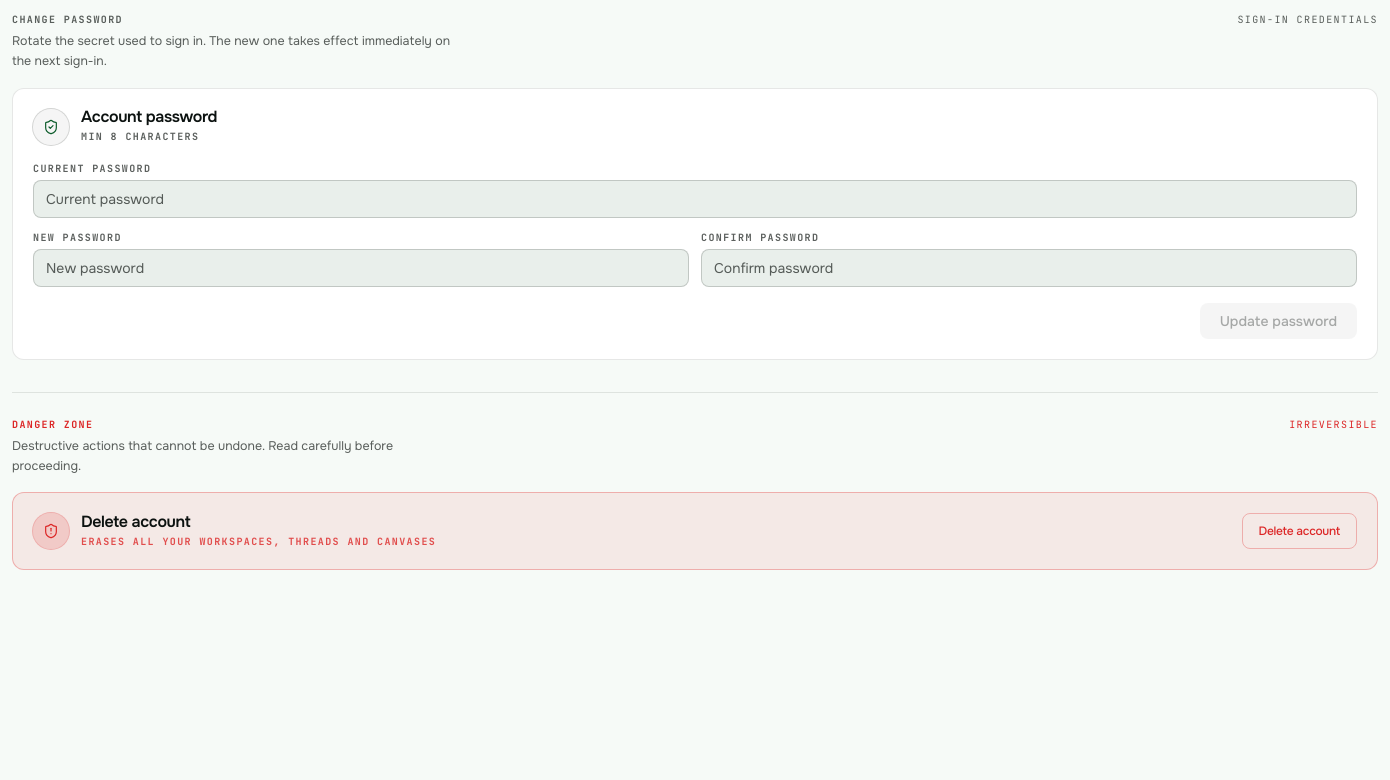
Test: SecuritySection › GIVEN a password form with the current password typed › WHEN a too short new password is submitted › THEN the length rule is explained without a request
The width and height of the screenshot is (1390, 780).
Type "old-secret-1" into the password field labelled "Current password". click: x=695, y=199
box: [33,180,1357,218]
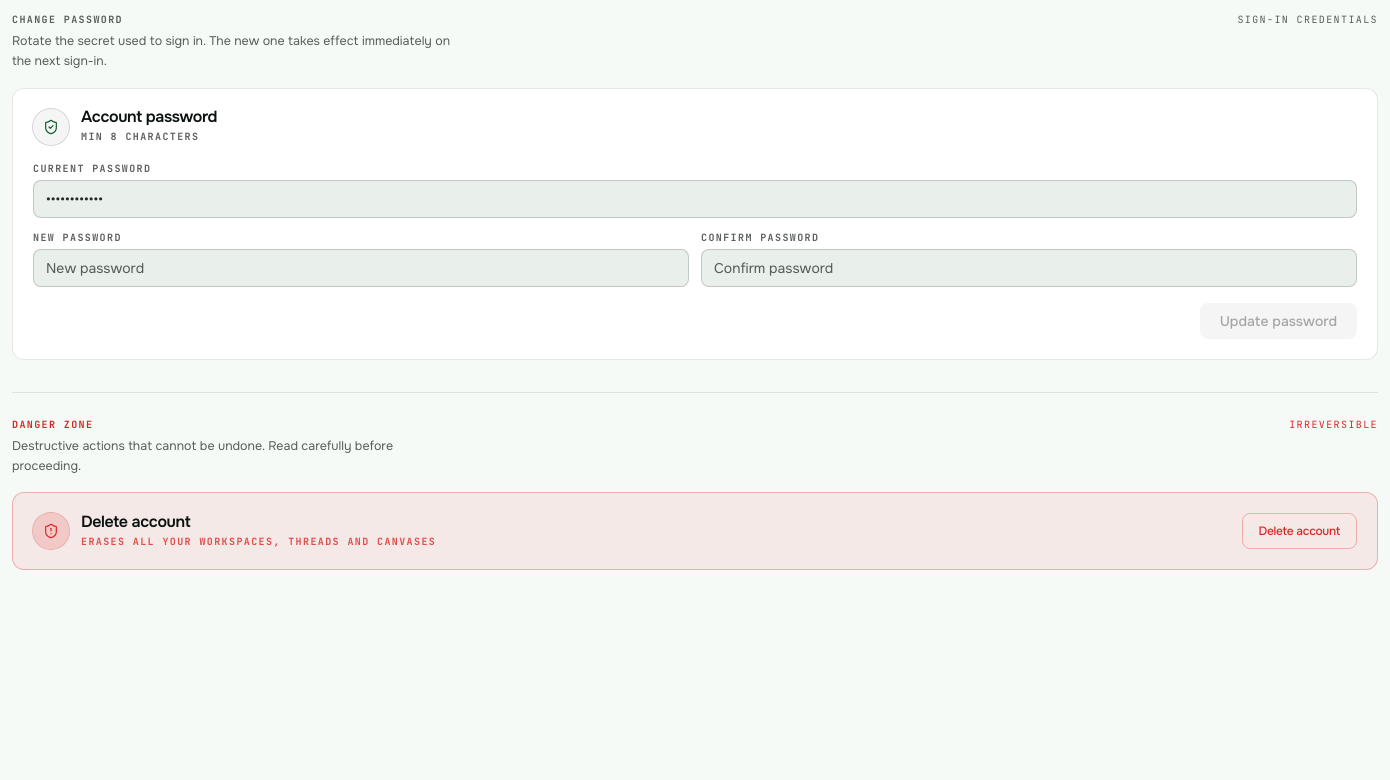
Type "short" into the password field labelled "New password". click: x=361, y=268
box: [33,249,689,287]
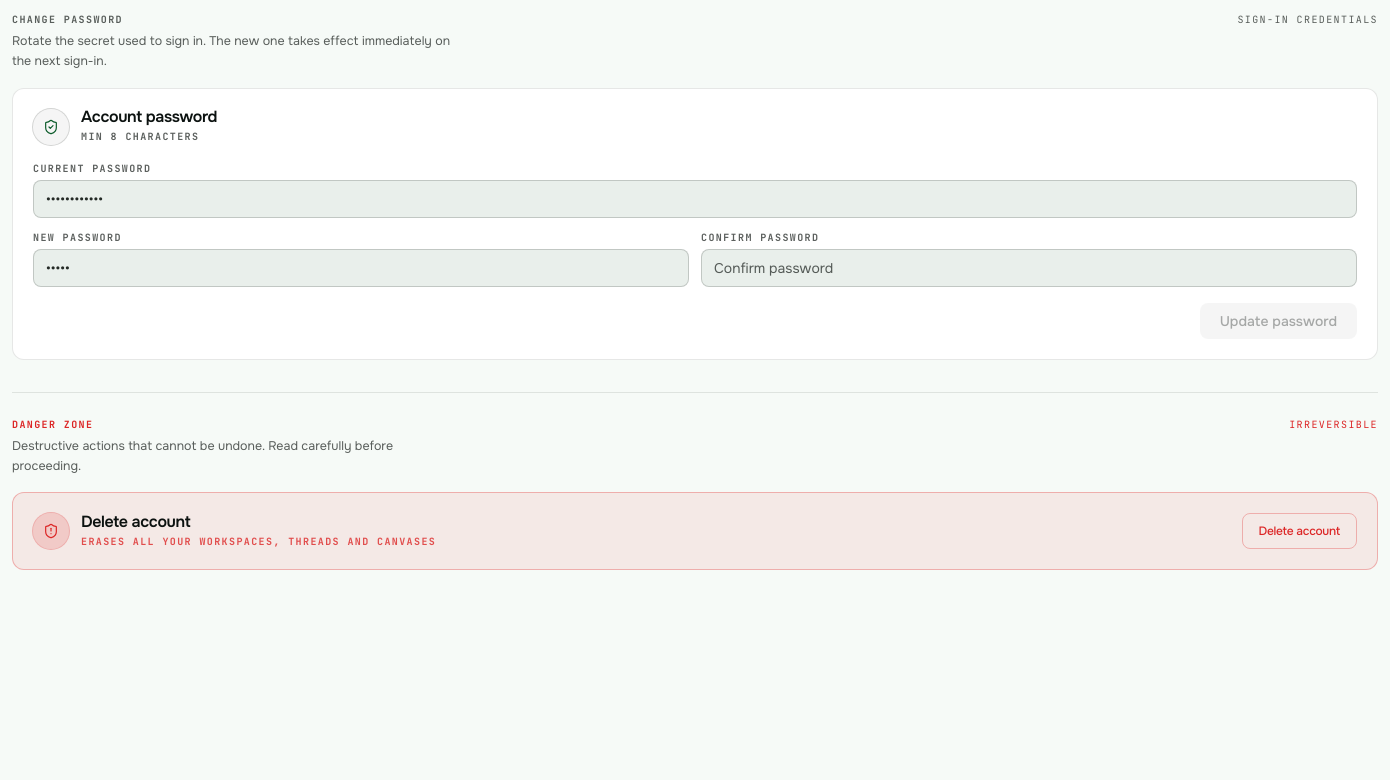
Type "short" into the password field labelled "Confirm password". click: x=1029, y=268
box: [701,249,1357,287]
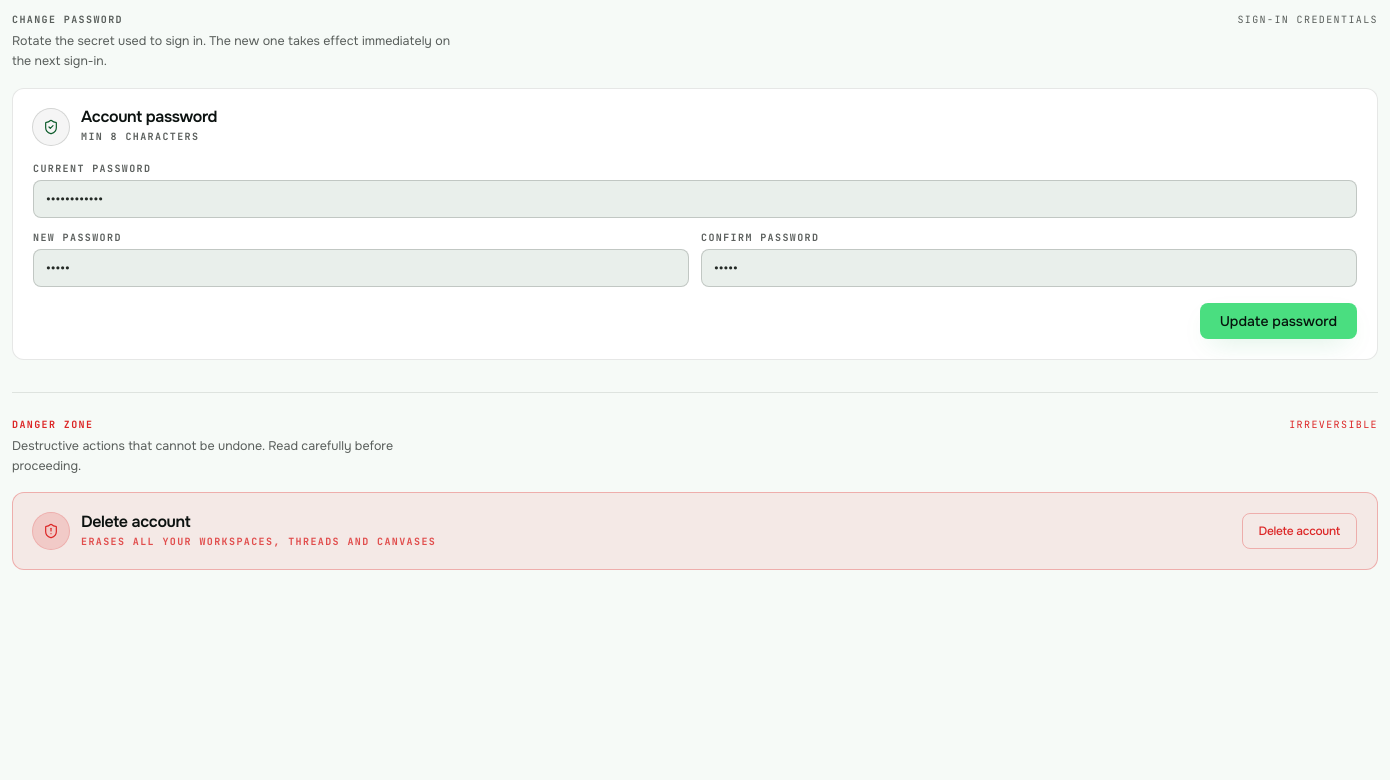
Click the button "Update password". click: x=1278, y=321
box: [1200,303,1357,339]
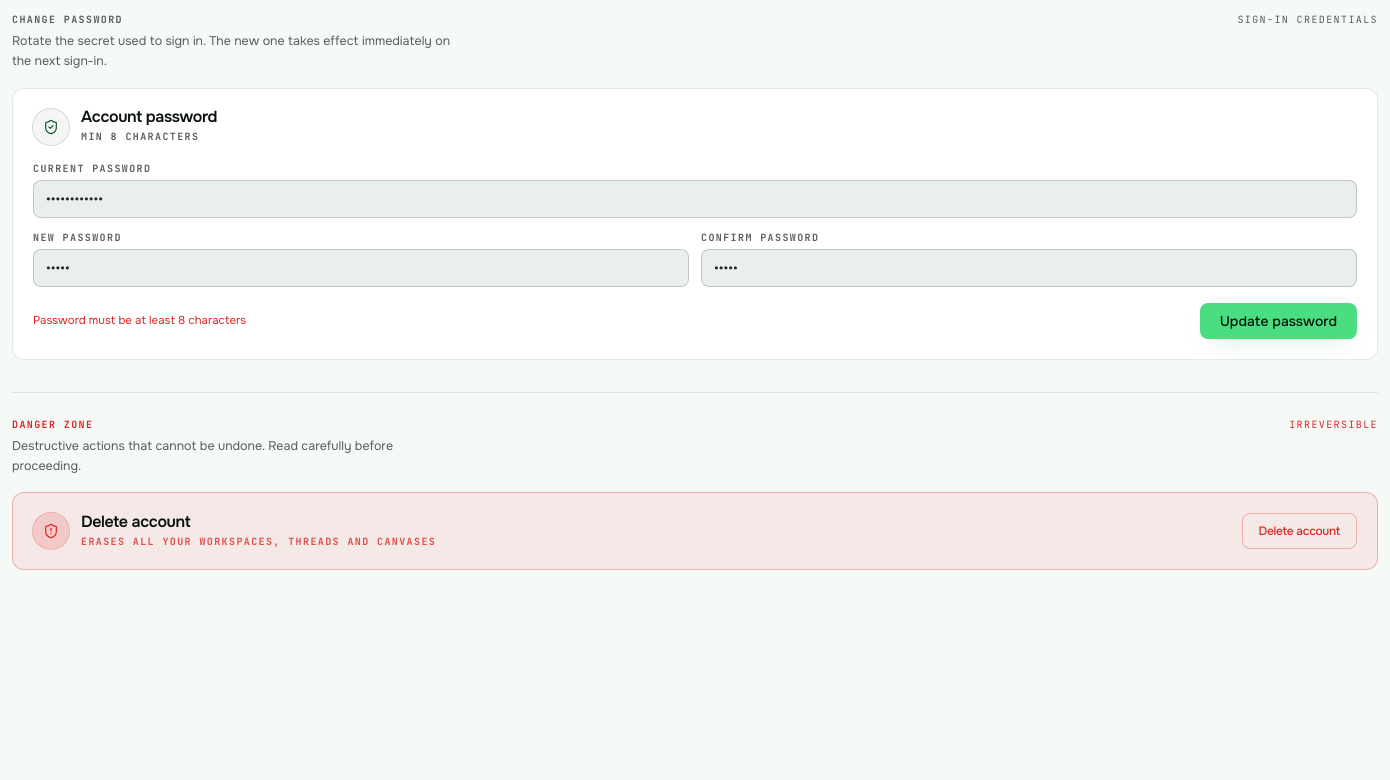
Expected: the text "Password must be at least 8 characters" is shown, [33,313,246,328]
